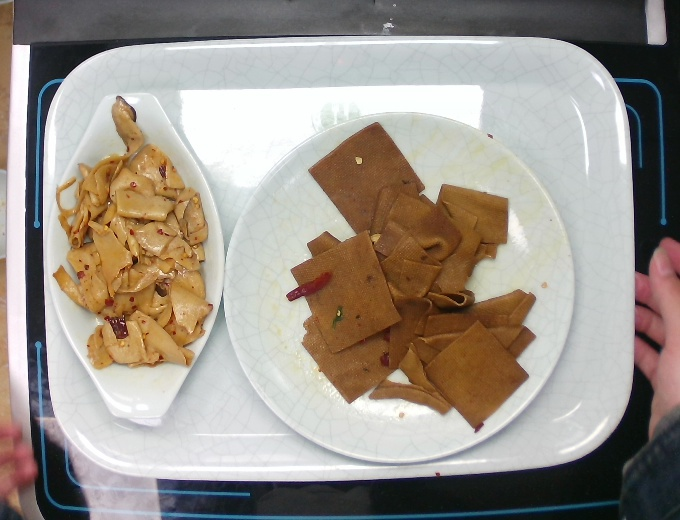JYsf-Da_Yuan_Pan: (221, 110, 577, 466)
JYsf-Yu_Pan: (44, 91, 226, 422)
